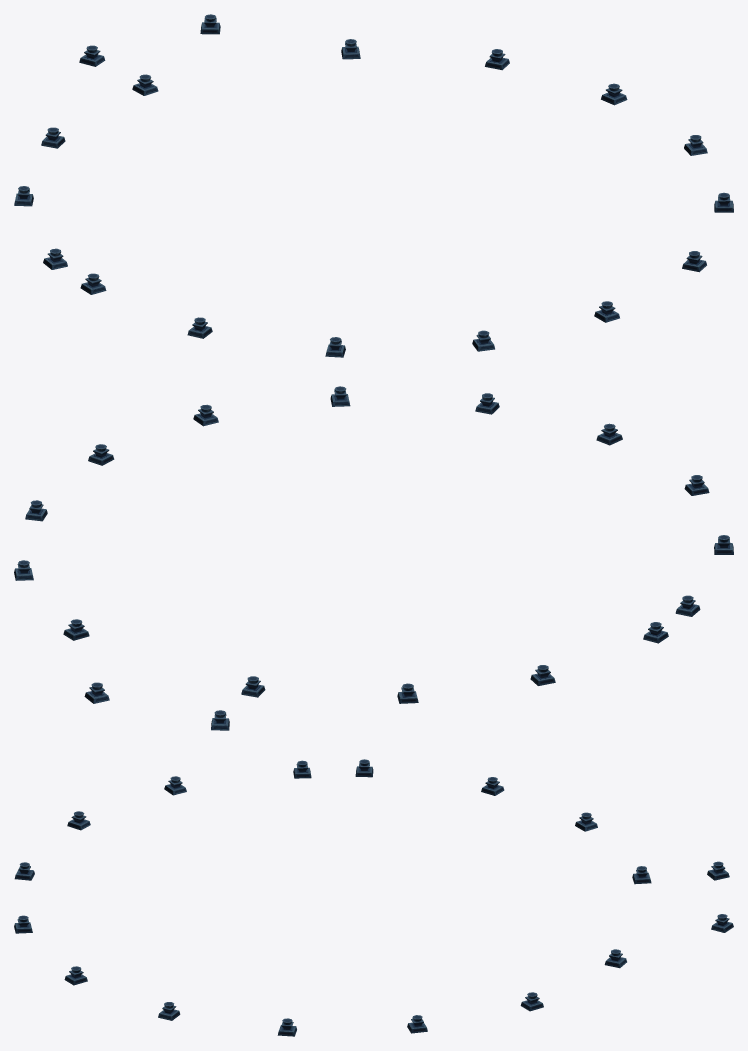
File: wujian65.fbx
3 renders of one model, top to bottom at view 1: azimuth 30°, elevation 25°; view 2: azimuth 150°, elevation 25°; view 3: azimuth 270°, elevation 25°, orthographic. The views are drawn at different scales.
Parts seen in each view (by area): view 1: wujian65; view 2: wujian65; view 3: wujian65.
Boxes of the visible parts, bbox=[...] form: wujian65: bbox=[14, 14, 733, 357]; wujian65: bbox=[14, 386, 733, 730]; wujian65: bbox=[14, 759, 733, 1036].
Bounding box in the file's own units: 8672 × 190 × 9900.
1 material, 1 textured.
